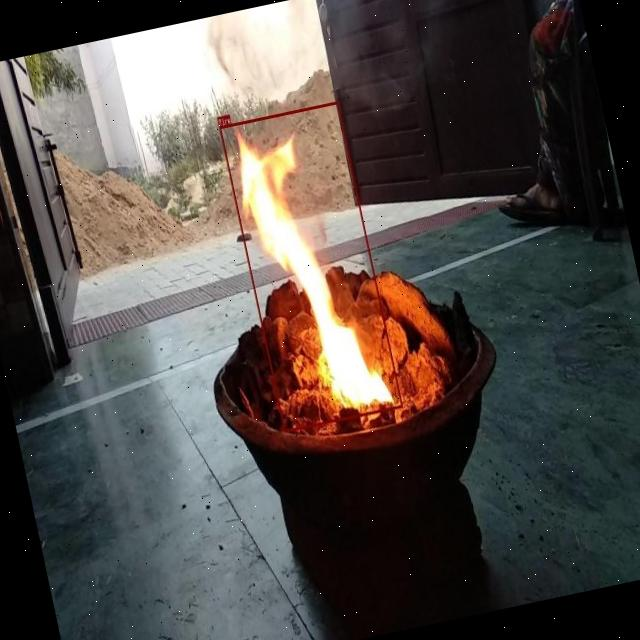fire: (220, 100, 402, 430)
